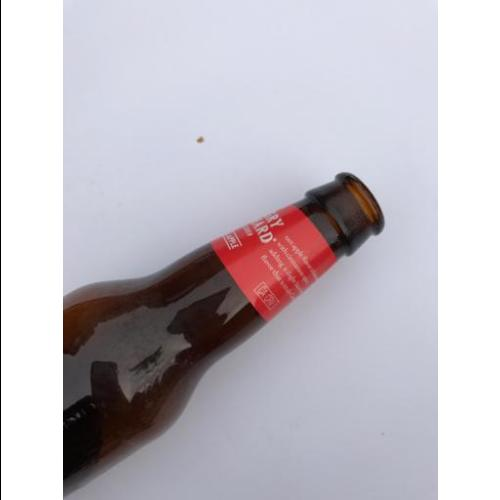glass: (61, 169, 388, 499)
